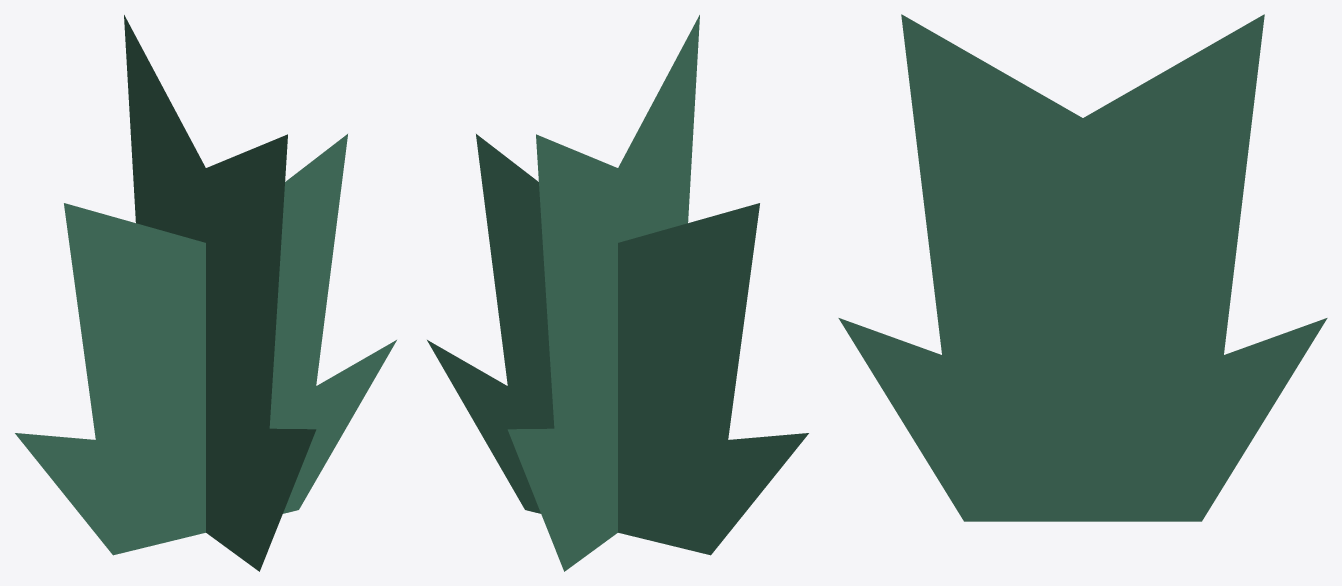
Rendered from naturePack_flat_002.obj.
3 renders of one model, left to right at view 1: azimuth 30°, elevation 25°; view 2: azimuth 150°, elevation 25°; view 3: azimuth 270°, elevation 25°, orthographic. The views are drawn at different scales.
Visible parts, largest first — view 1: Mesh1_Plant_1_Model, Mesh2_Plant_1_Model; view 2: Mesh1_Plant_1_Model, Mesh2_Plant_1_Model; view 3: Mesh2_Plant_1_Model.
Part boxes in pixels (<box>): Mesh1_Plant_1_Model: <box>15,134,396,555</box>; Mesh2_Plant_1_Model: <box>124,15,316,571</box>; Mesh1_Plant_1_Model: <box>427,134,808,555</box>; Mesh2_Plant_1_Model: <box>507,15,699,571</box>; Mesh2_Plant_1_Model: <box>838,14,1327,521</box>.
Size of the model in its own units: 0.5692 by 0.6512 by 0.5692.
